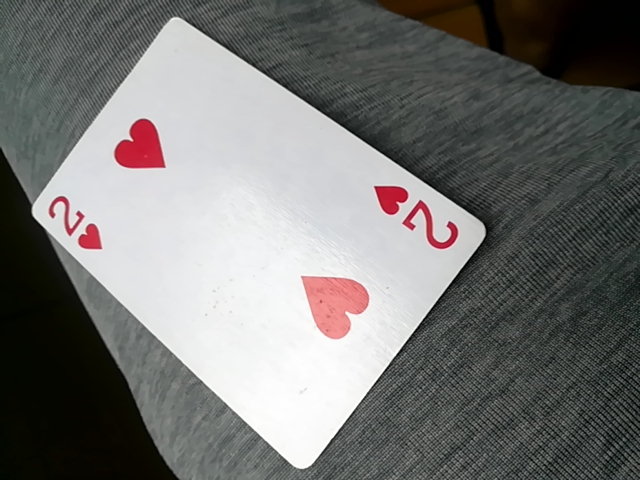hx 2: (22, 18, 494, 474)
